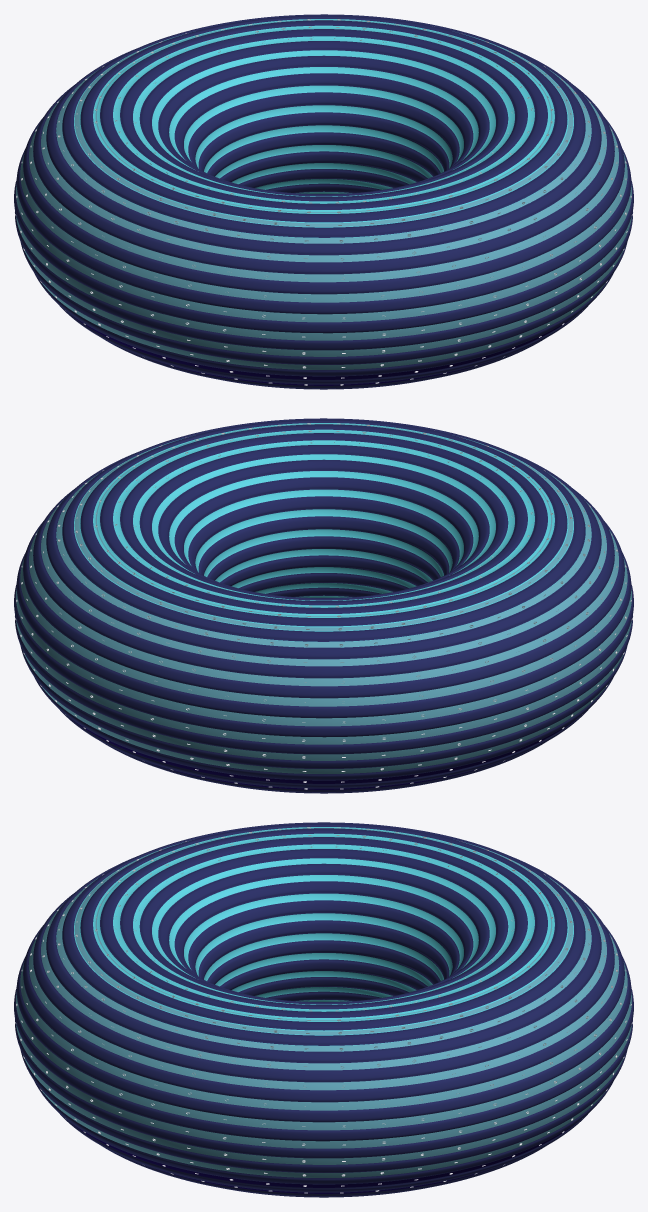
The model's file is DigitalDataHighway-transformed.glb.
3 renders of one model, top to bottom at view 1: azimuth 30°, elevation 25°; view 2: azimuth 150°, elevation 25°; view 3: azimuth 270°, elevation 25°, orthographic.
Parts seen in each view (by area): view 1: Torus_1; view 2: Torus_1; view 3: Torus_1.
Part boxes in pixels (x1=…): Torus_1: x1=14, y1=14, x2=633, y2=389; Torus_1: x1=14, y1=418, x2=633, y2=793; Torus_1: x1=14, y1=822, x2=633, y2=1197.
Bounding box in the file's own units: 2.26 × 0.7138 × 2.26.
4 materials, 4 textured.
